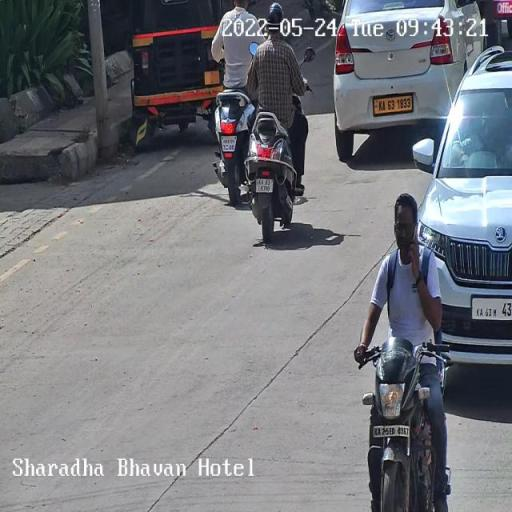using mobile: (410, 214, 424, 263)
